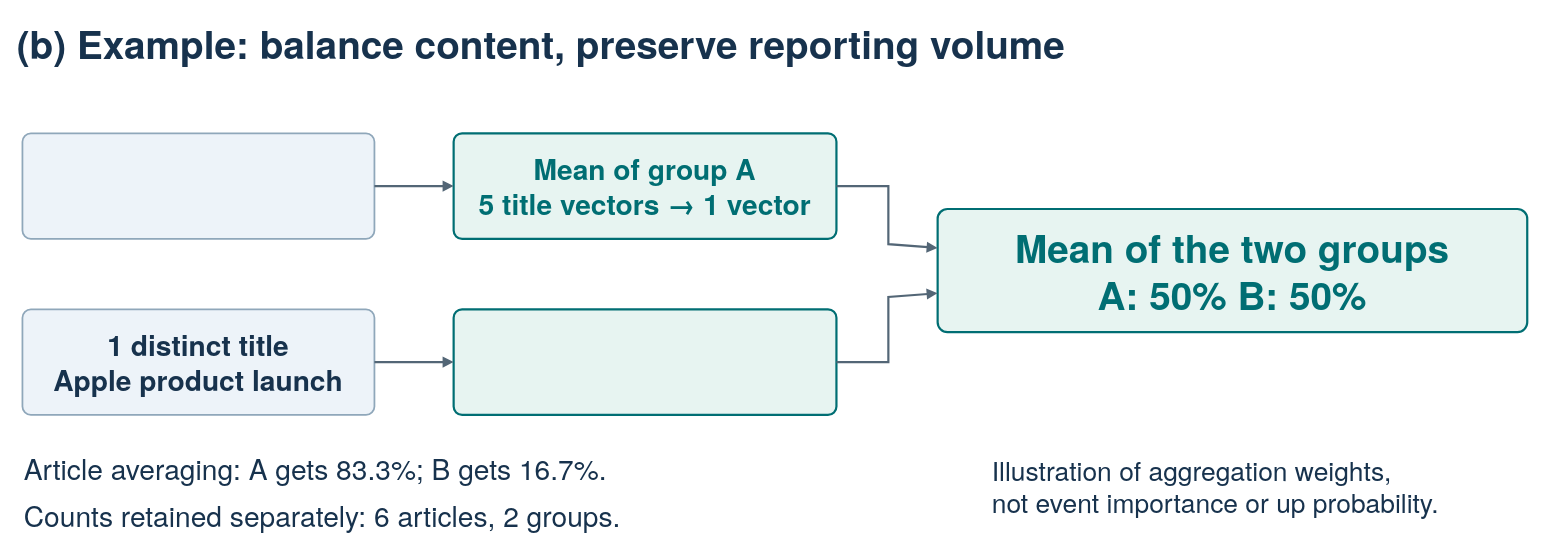
This 1558x551 diagram has some shape labels left out. The shapes that lost their labels are listed below. From the top down, each one's box as (x1, y1, x2, y2) in pixels, then its label:
(21, 132, 375, 239): 5 near-duplicate titles Apple target price cut
(452, 308, 837, 416): Mean of group B 1 title vector → 1 vector
